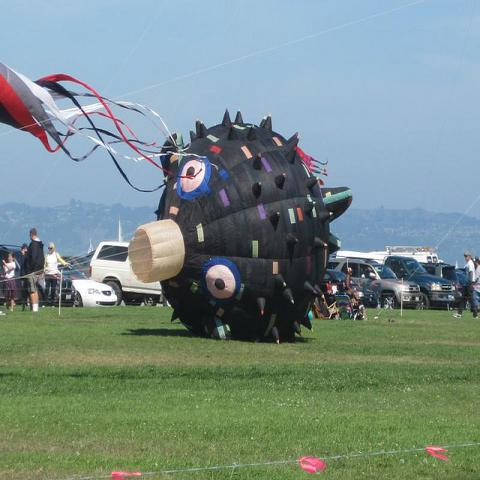car: (330, 257, 424, 310), (0, 245, 73, 307), (320, 269, 364, 305), (71, 278, 117, 308), (420, 262, 461, 286), (455, 268, 473, 311)
truck: (327, 254, 422, 310), (89, 242, 163, 306), (382, 255, 456, 310)
